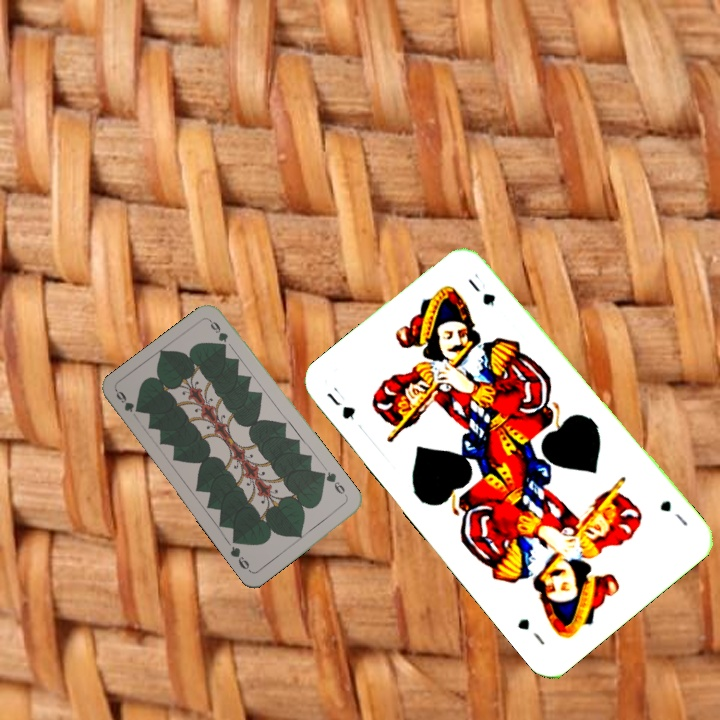G9: (318, 467, 351, 501), (112, 387, 142, 415)
GU: (322, 382, 359, 422), (656, 496, 691, 529)
